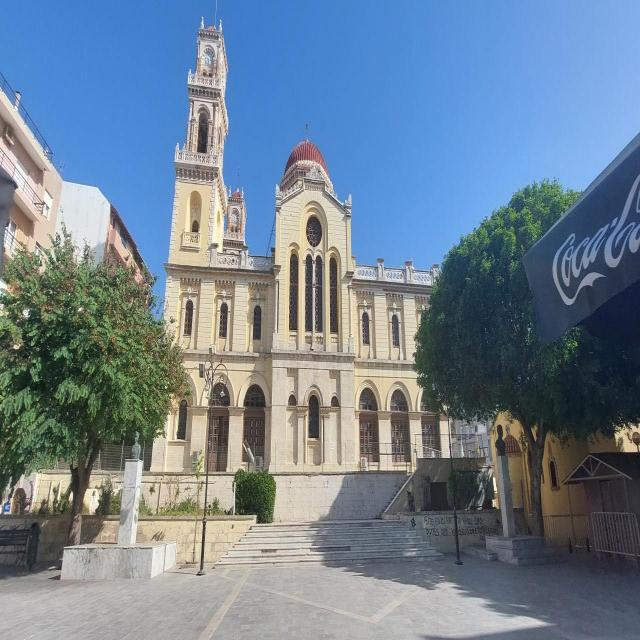Agios Minas: (151, 1, 455, 477)
